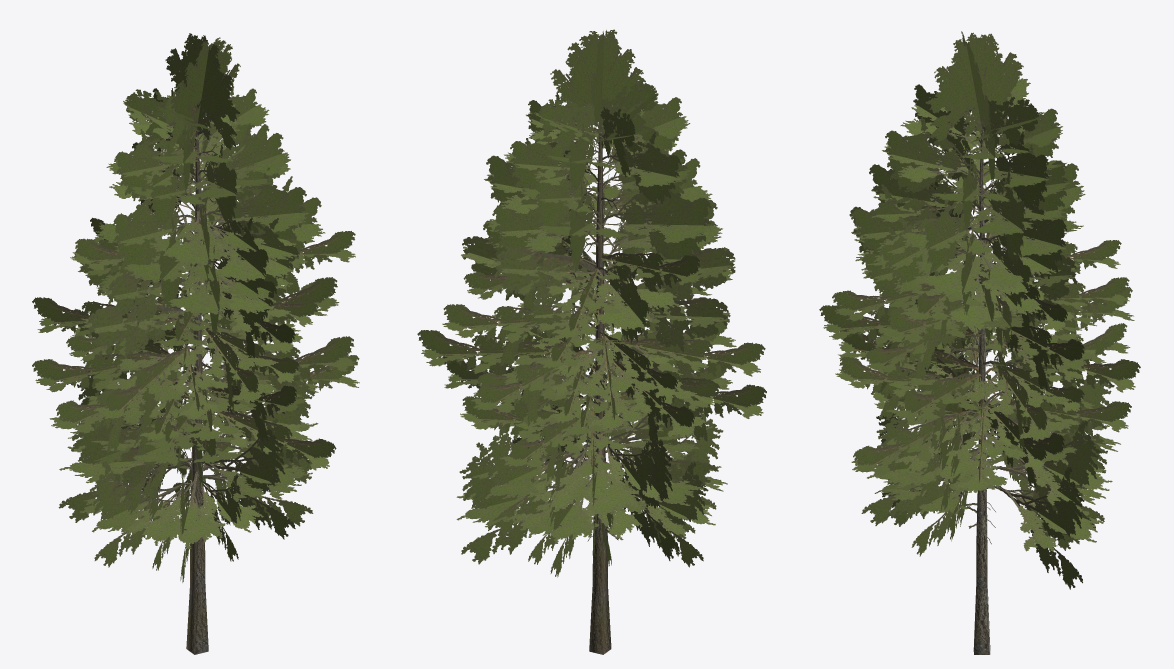
The model's file is LarixDecidua.glb.
3 views of the same model, side by side, from view 1: azimuth 30°, elevation 25°; view 2: azimuth 150°, elevation 25°; view 3: azimuth 270°, elevation 25° (orthographic).
Parts seen in each view (by area): view 1: European_Larch__Realistic_LOD3; view 2: European_Larch__Realistic_LOD3; view 3: European_Larch__Realistic_LOD3.
Part boxes in pixels (box(x1,y1,x2,y2)): European_Larch__Realistic_LOD3: box(32, 33, 359, 654); European_Larch__Realistic_LOD3: box(417, 29, 766, 654); European_Larch__Realistic_LOD3: box(819, 31, 1140, 654).
Bounding box in the file's own units: 10.08 × 18.51 × 9.23.
1 material, 1 textured.
